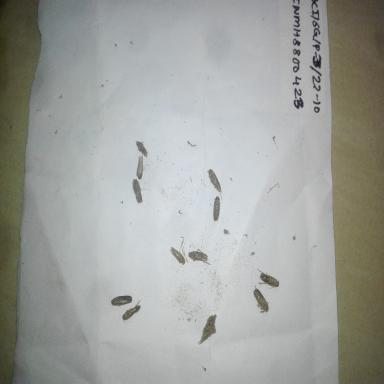pbw: (196, 314, 218, 346), (256, 266, 282, 290), (129, 178, 149, 208), (252, 288, 274, 314), (122, 298, 142, 324), (206, 166, 224, 193), (211, 192, 227, 222), (136, 137, 154, 163), (187, 248, 211, 266), (135, 152, 150, 180), (110, 292, 133, 308), (169, 246, 187, 266)
